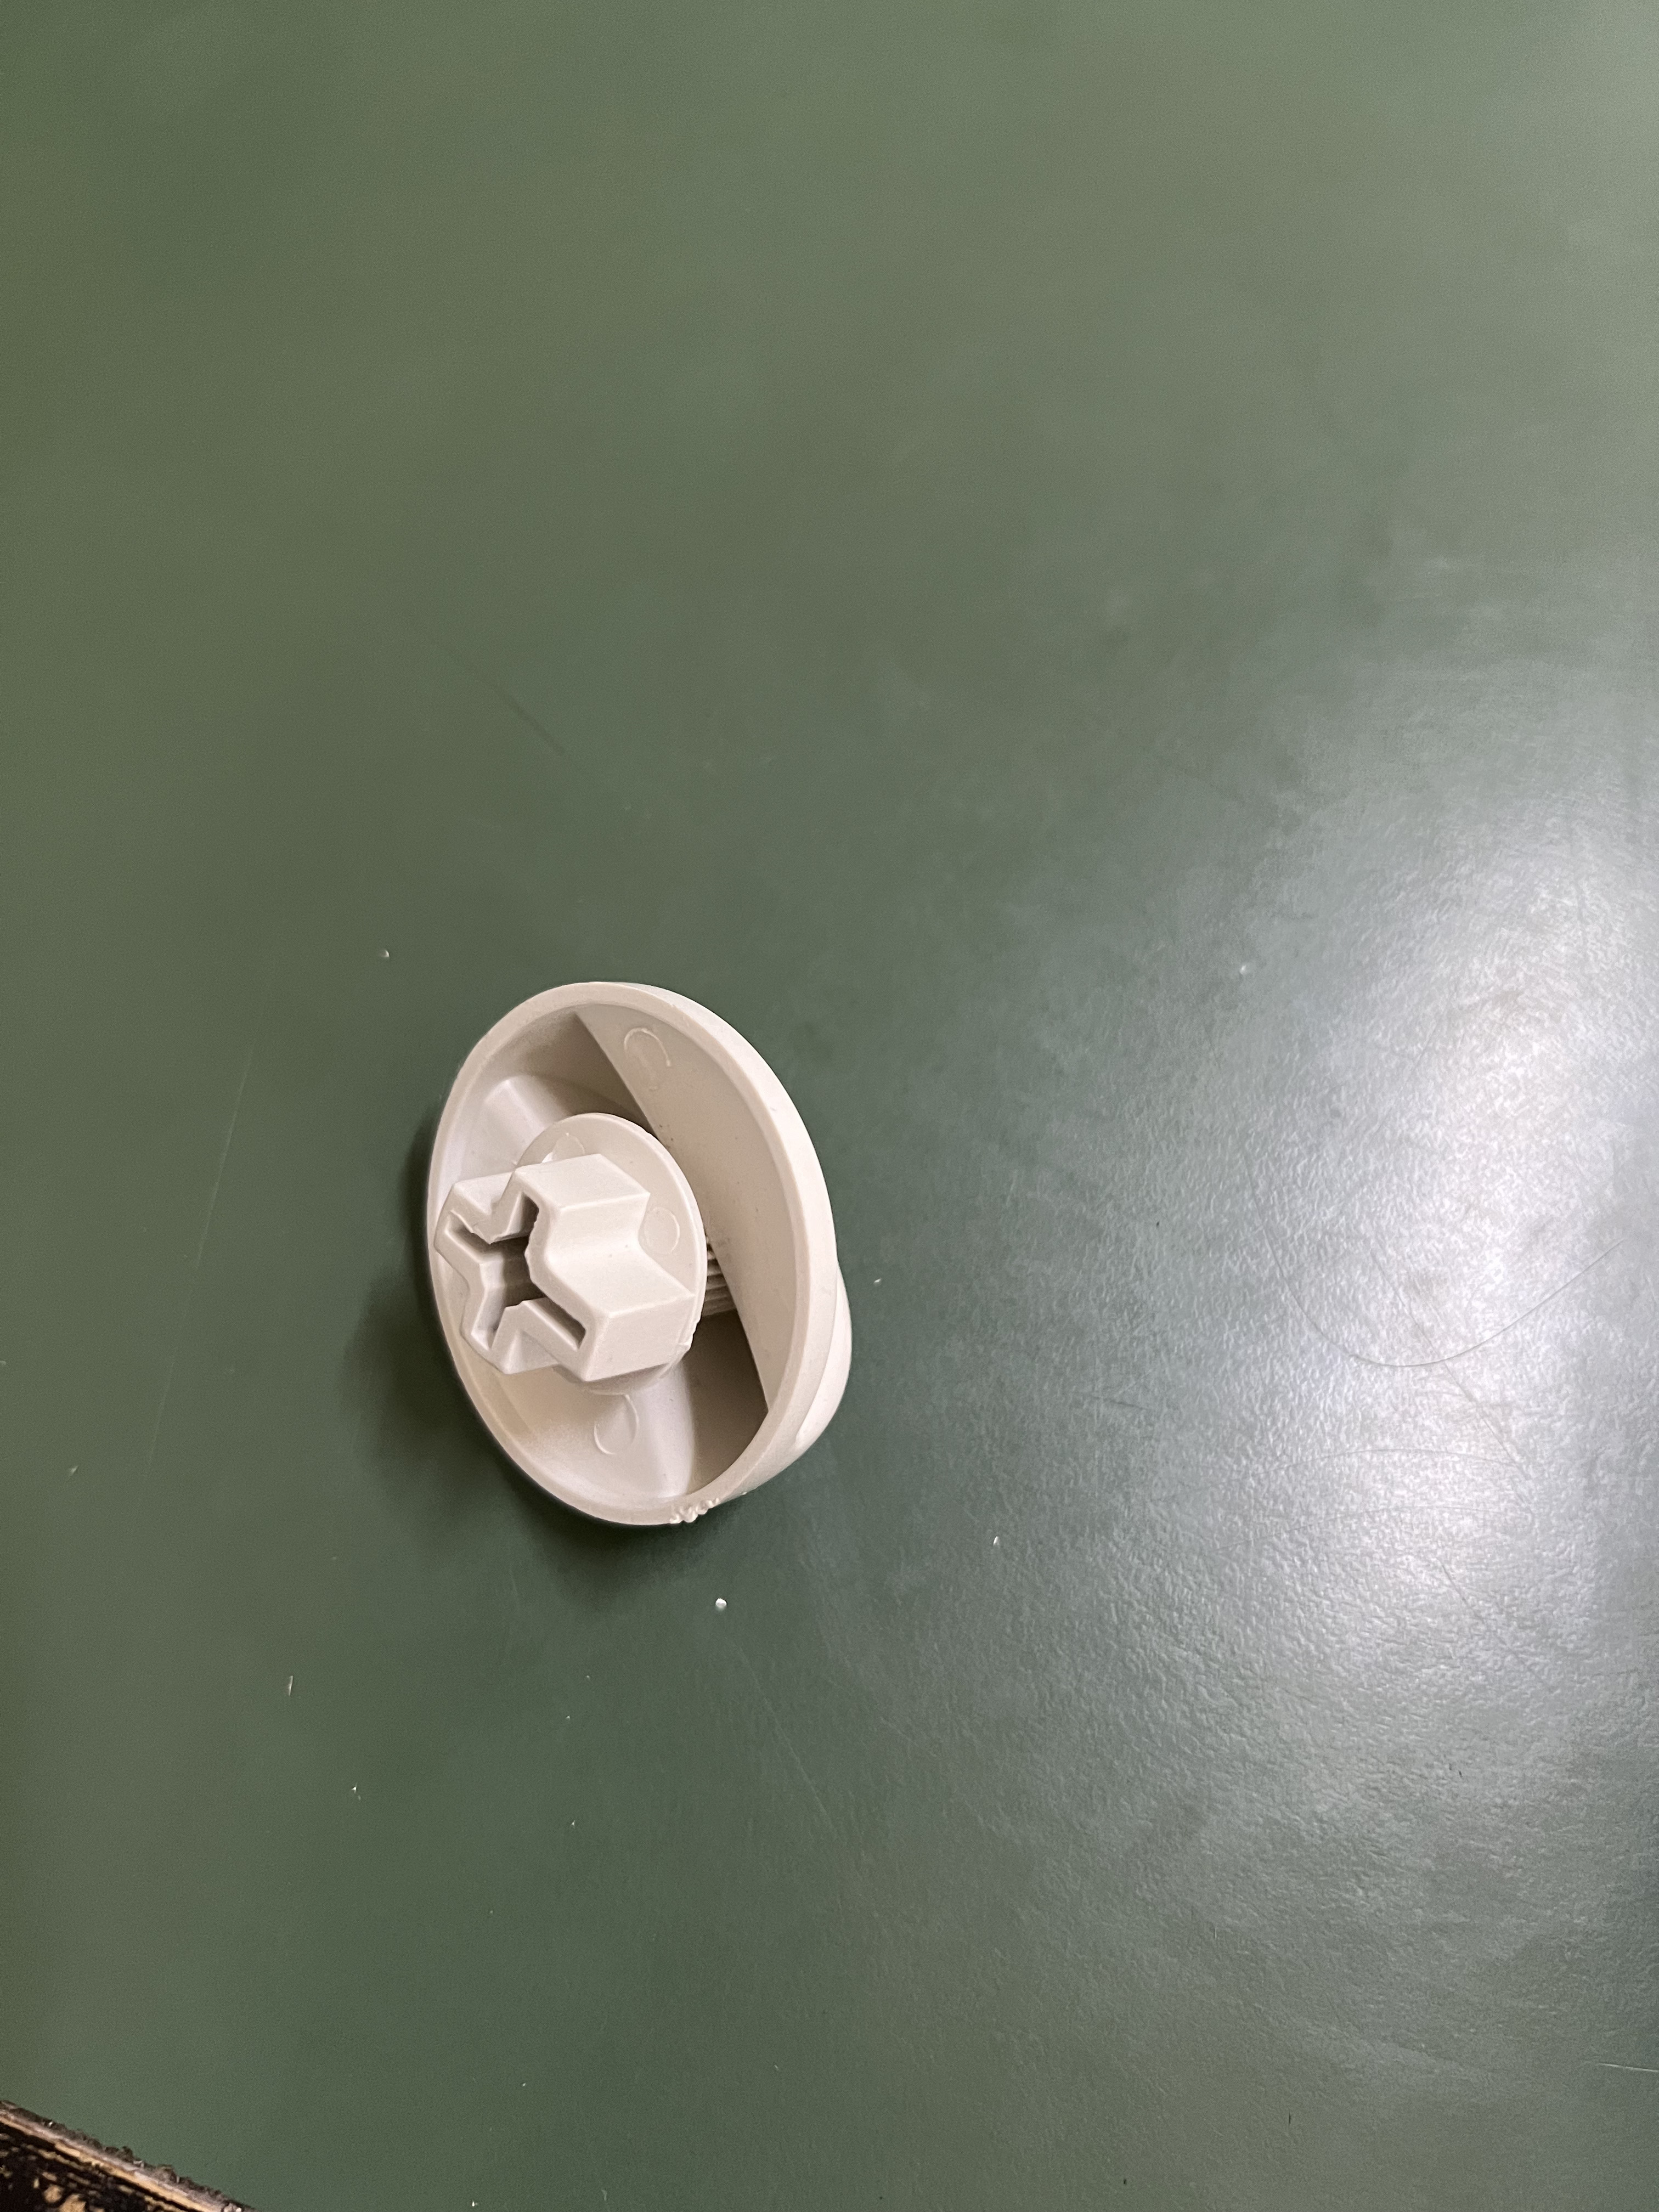regulator: (413, 967, 887, 1533)
